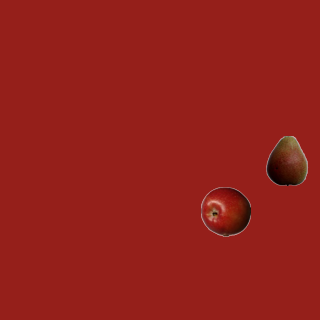Apple Braeburn: (200, 186, 250, 236)
Pear Forelle: (261, 135, 311, 185)
